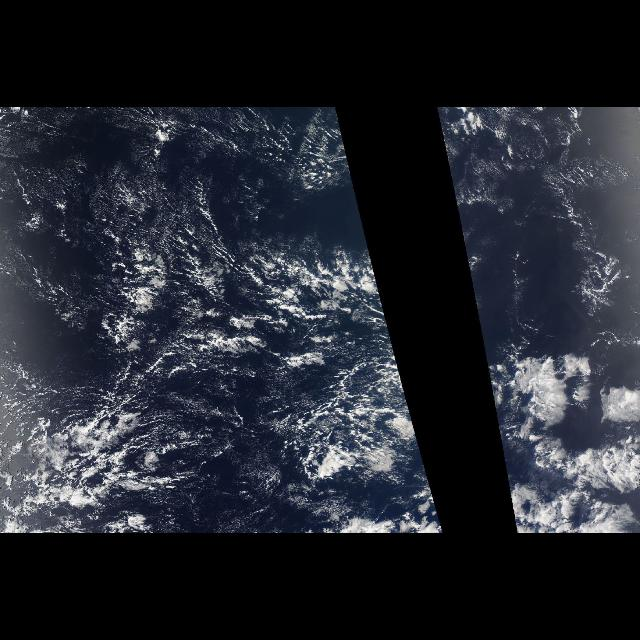Flower: (504, 347, 640, 523)
Sugar: (14, 154, 366, 412)
